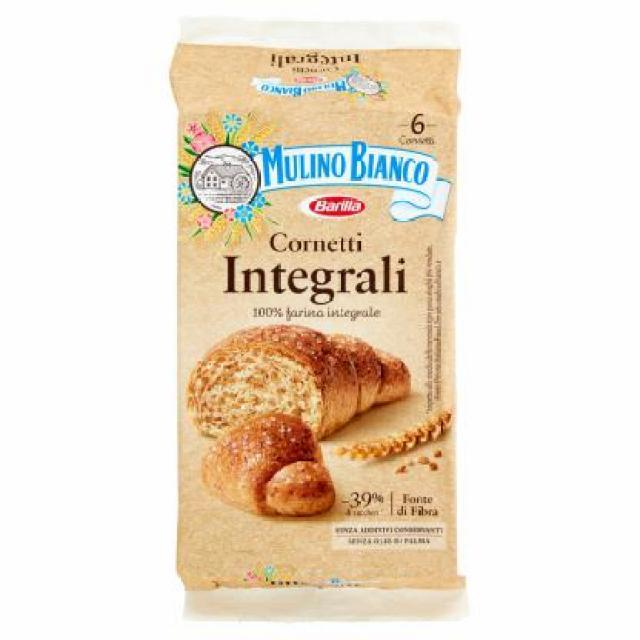Merendine: (167, 40, 464, 622)
